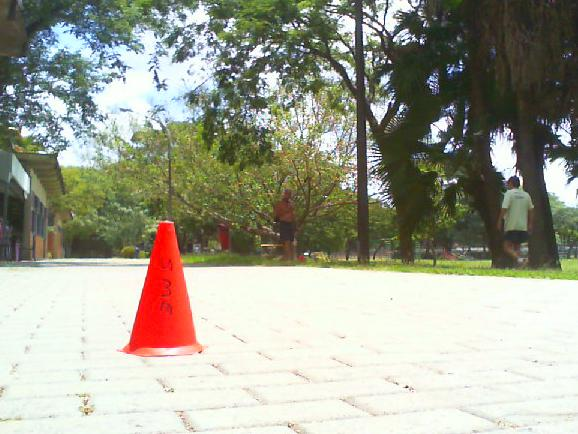0 cone: (117, 221, 204, 357)
